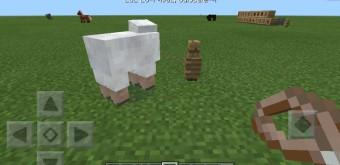sheep: (82, 18, 161, 108)
